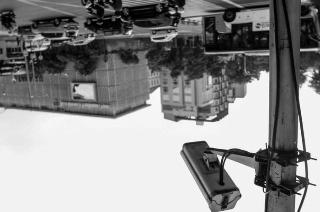mobil: (203, 1, 314, 58), (124, 6, 180, 28), (32, 17, 80, 36), (88, 20, 124, 36), (152, 22, 180, 40), (70, 34, 92, 48), (18, 27, 38, 41), (33, 40, 51, 52), (53, 38, 65, 50)
motor: (153, 0, 188, 15), (2, 8, 18, 40), (86, 0, 102, 24), (110, 0, 123, 19)
